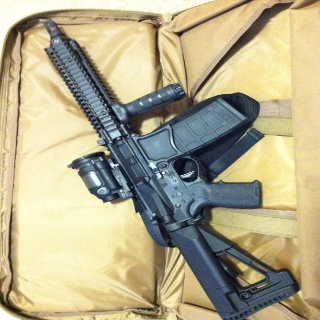rifle: (39, 18, 301, 320)
